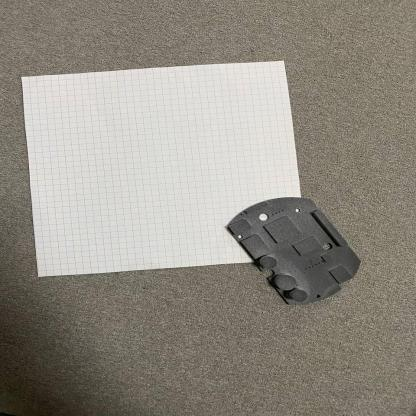grid: (18, 57, 319, 281)
